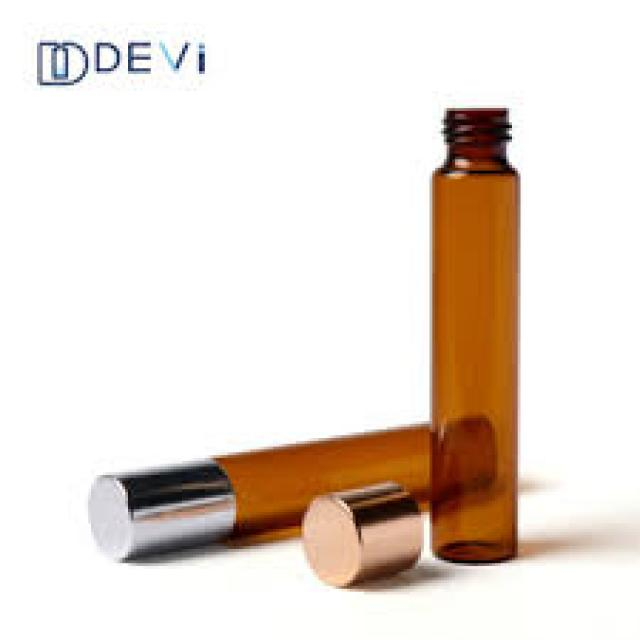glass: (216, 171, 515, 555)
